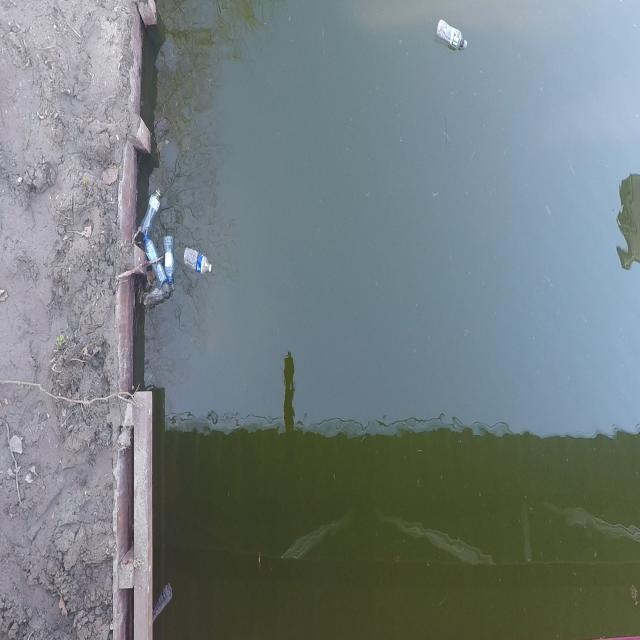Bouteille plastique: (143, 235, 166, 285), (138, 191, 161, 239), (141, 280, 176, 310), (436, 18, 468, 50), (184, 248, 213, 275), (153, 583, 172, 622), (164, 237, 176, 283)
